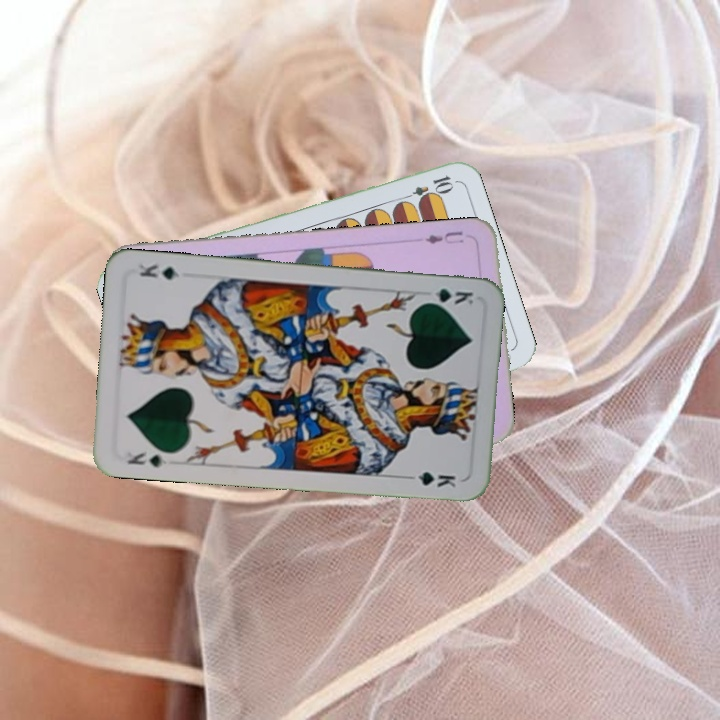E10: (398, 171, 456, 204)
EU: (421, 227, 466, 247)
GK: (419, 284, 476, 309), (124, 447, 170, 470)
